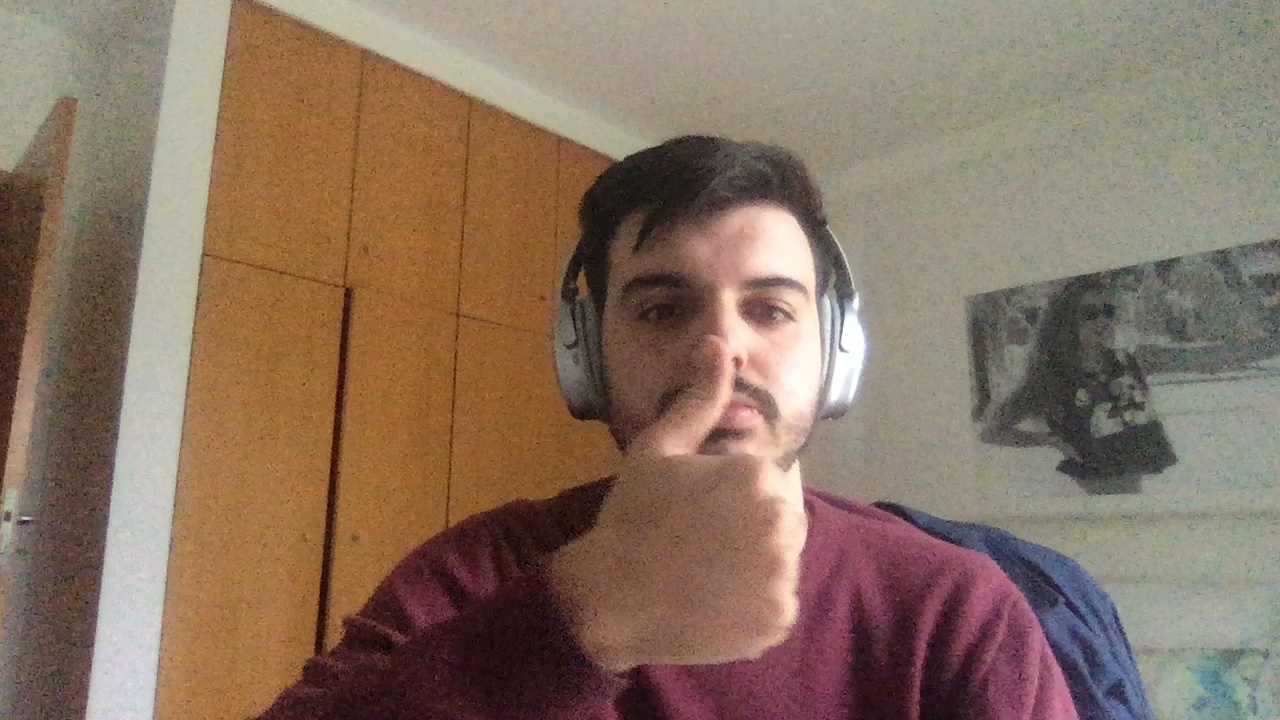ThumbsUp: (597, 335, 803, 659)
